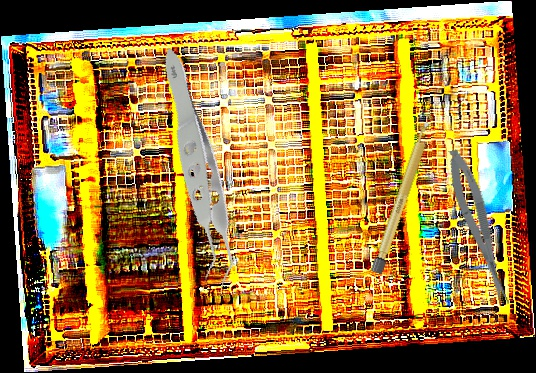Micro Scissor: (441, 145, 516, 310)
Scalpel Handle: (370, 120, 435, 275)
Tissue Forceps: (96, 46, 292, 303)
